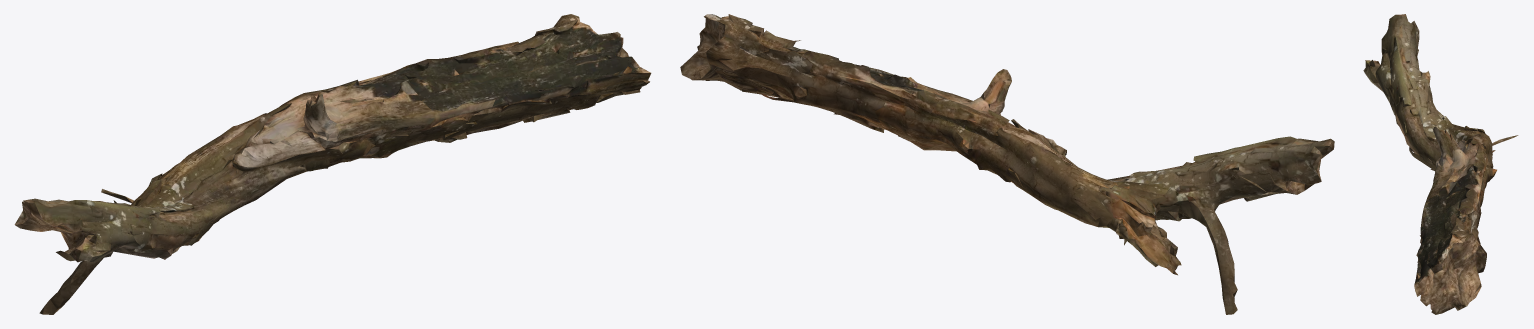
File: dead_tree_a.glb
The picture shows the model from 3 angles, left to right: view 1: azimuth 30°, elevation 25°; view 2: azimuth 150°, elevation 25°; view 3: azimuth 270°, elevation 25°; orthographic projection. The views are drawn at different scales.
Visible parts, largest first — view 1: dead_tree_a; view 2: dead_tree_a; view 3: dead_tree_a.
Boxes of the visible parts, box(x1,y1,x2,y2) form: dead_tree_a: box(14, 14, 651, 314); dead_tree_a: box(680, 14, 1334, 314); dead_tree_a: box(1363, 14, 1518, 314).
Bounding box in the file's own units: 4.06 × 1.06 × 1.06.
1 material, 1 textured.
